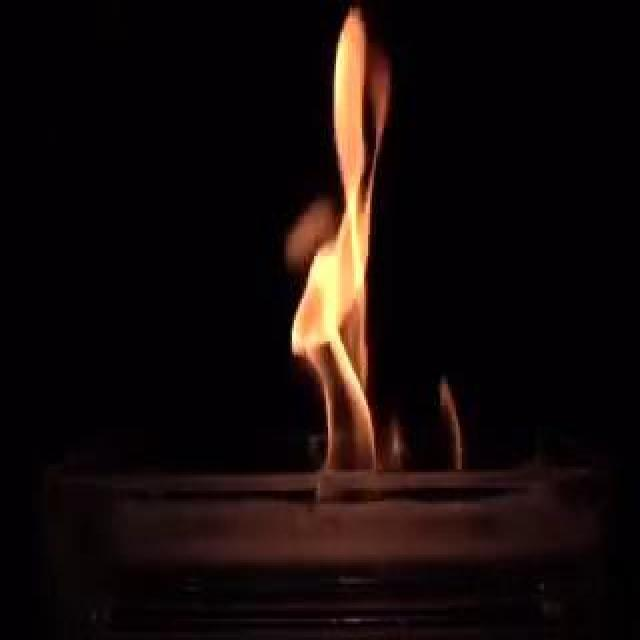Fire: (285, 16, 408, 479)
